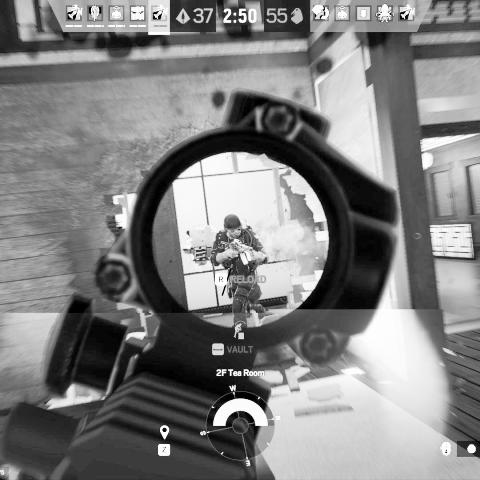Character: (210, 212, 272, 329)
Head: (223, 213, 243, 238)
